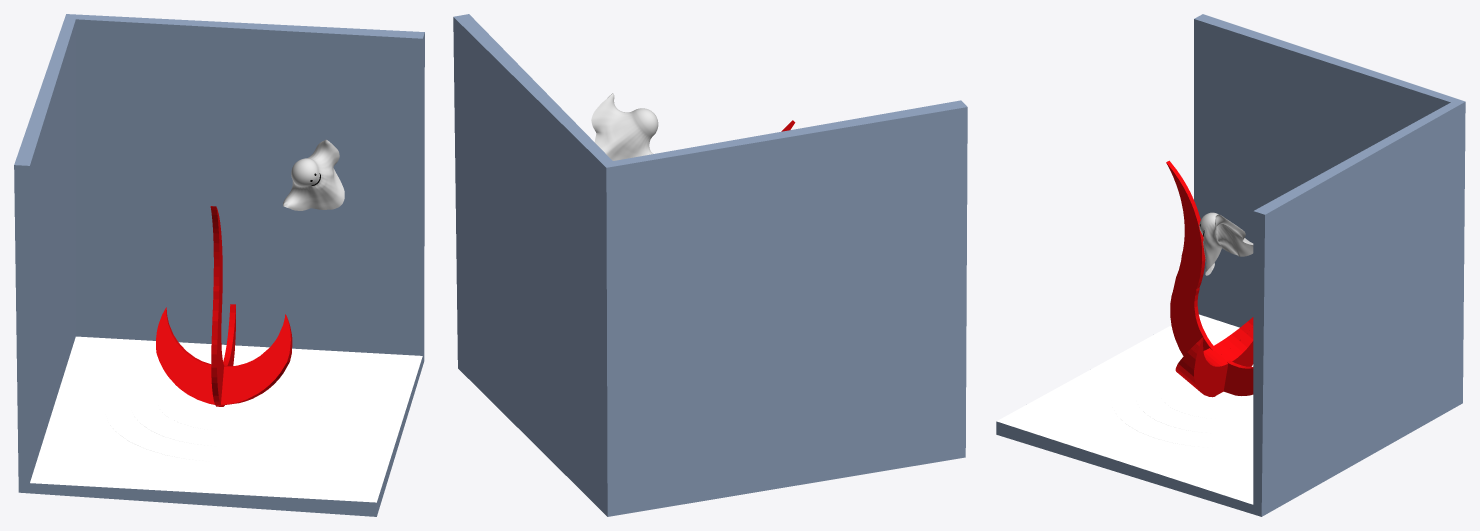
File: Redbird.glb
3 renders of one model, left to right at view 1: azimuth 30°, elevation 25°; view 2: azimuth 150°, elevation 25°; view 3: azimuth 270°, elevation 25°, orthographic. The views are drawn at different scales.
Visible parts, largest first — view 1: World, Steps, Object, B_1, Sphere, B_2, B_3; view 2: World, Sphere; view 3: World, Steps, Object, Sphere, B_1, B_2, B_3.
Part boxes in pixels (x1,y1,x2,y2): World: [14, 14, 424, 516]; Steps: [30, 336, 422, 502]; Object: [156, 206, 292, 406]; B_1: [101, 358, 350, 471]; Sphere: [283, 139, 344, 210]; B_2: [127, 364, 325, 452]; B_3: [153, 380, 299, 436]; World: [453, 14, 967, 516]; Sphere: [591, 93, 658, 160]; World: [996, 14, 1465, 516]; Steps: [996, 314, 1253, 504]; Object: [1166, 160, 1253, 397]; Sphere: [1199, 212, 1253, 275]; B_1: [1108, 355, 1253, 457]; B_2: [1132, 363, 1253, 439]; B_3: [1156, 366, 1253, 424].
Size of the model in its own units: 14.81 by 10.56 by 14.62.
